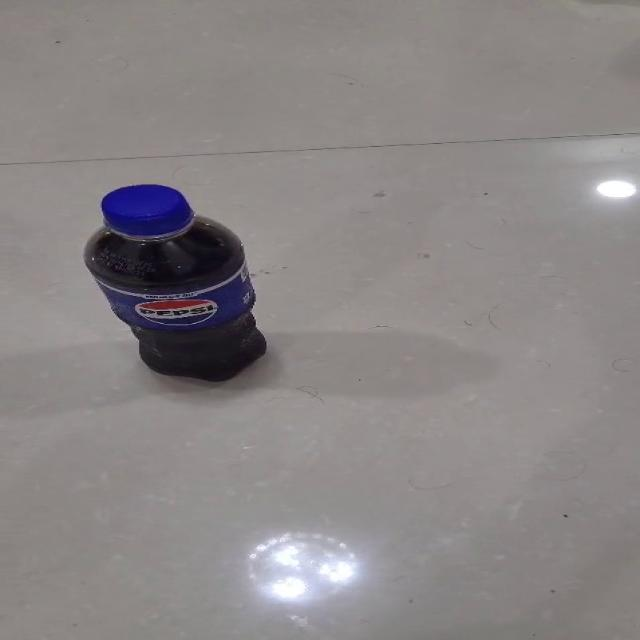plastic: (81, 183, 268, 382)
